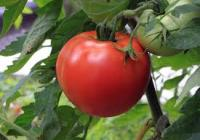tomato: (54, 27, 158, 119)
